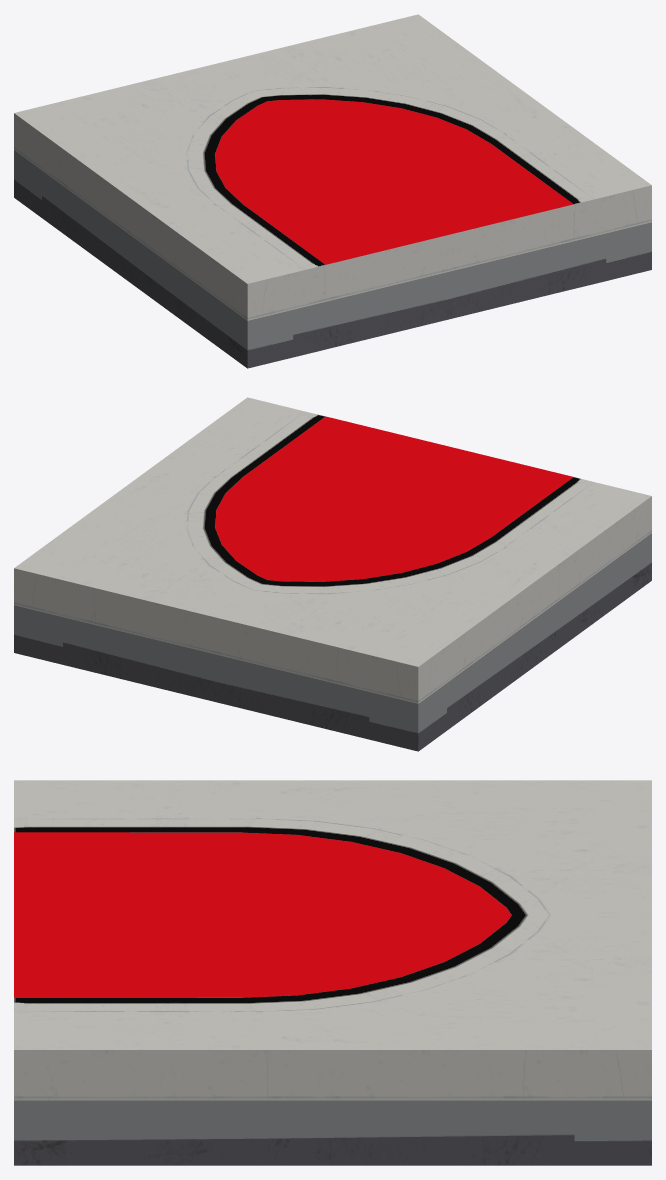
The model's file is G_Env_Arch_Floor_Metal_13_EndCurvedInner.fbx.
3 views of the same model, one above another, from view 1: azimuth 30°, elevation 25°; view 2: azimuth 150°, elevation 25°; view 3: azimuth 270°, elevation 25° (orthographic). The views are drawn at different scales.
Parts seen in each view (by area): view 1: G_Env_Arch_Floor_Metal_13_EndCurvedInner; view 2: G_Env_Arch_Floor_Metal_13_EndCurvedInner; view 3: G_Env_Arch_Floor_Metal_13_EndCurvedInner.
Part boxes in pixels (x1,y1,x2,y2): G_Env_Arch_Floor_Metal_13_EndCurvedInner: [14, 14, 651, 368]; G_Env_Arch_Floor_Metal_13_EndCurvedInner: [14, 397, 651, 751]; G_Env_Arch_Floor_Metal_13_EndCurvedInner: [14, 780, 651, 1165].
Size of the model in its own units: 500 by 100 by 500.
